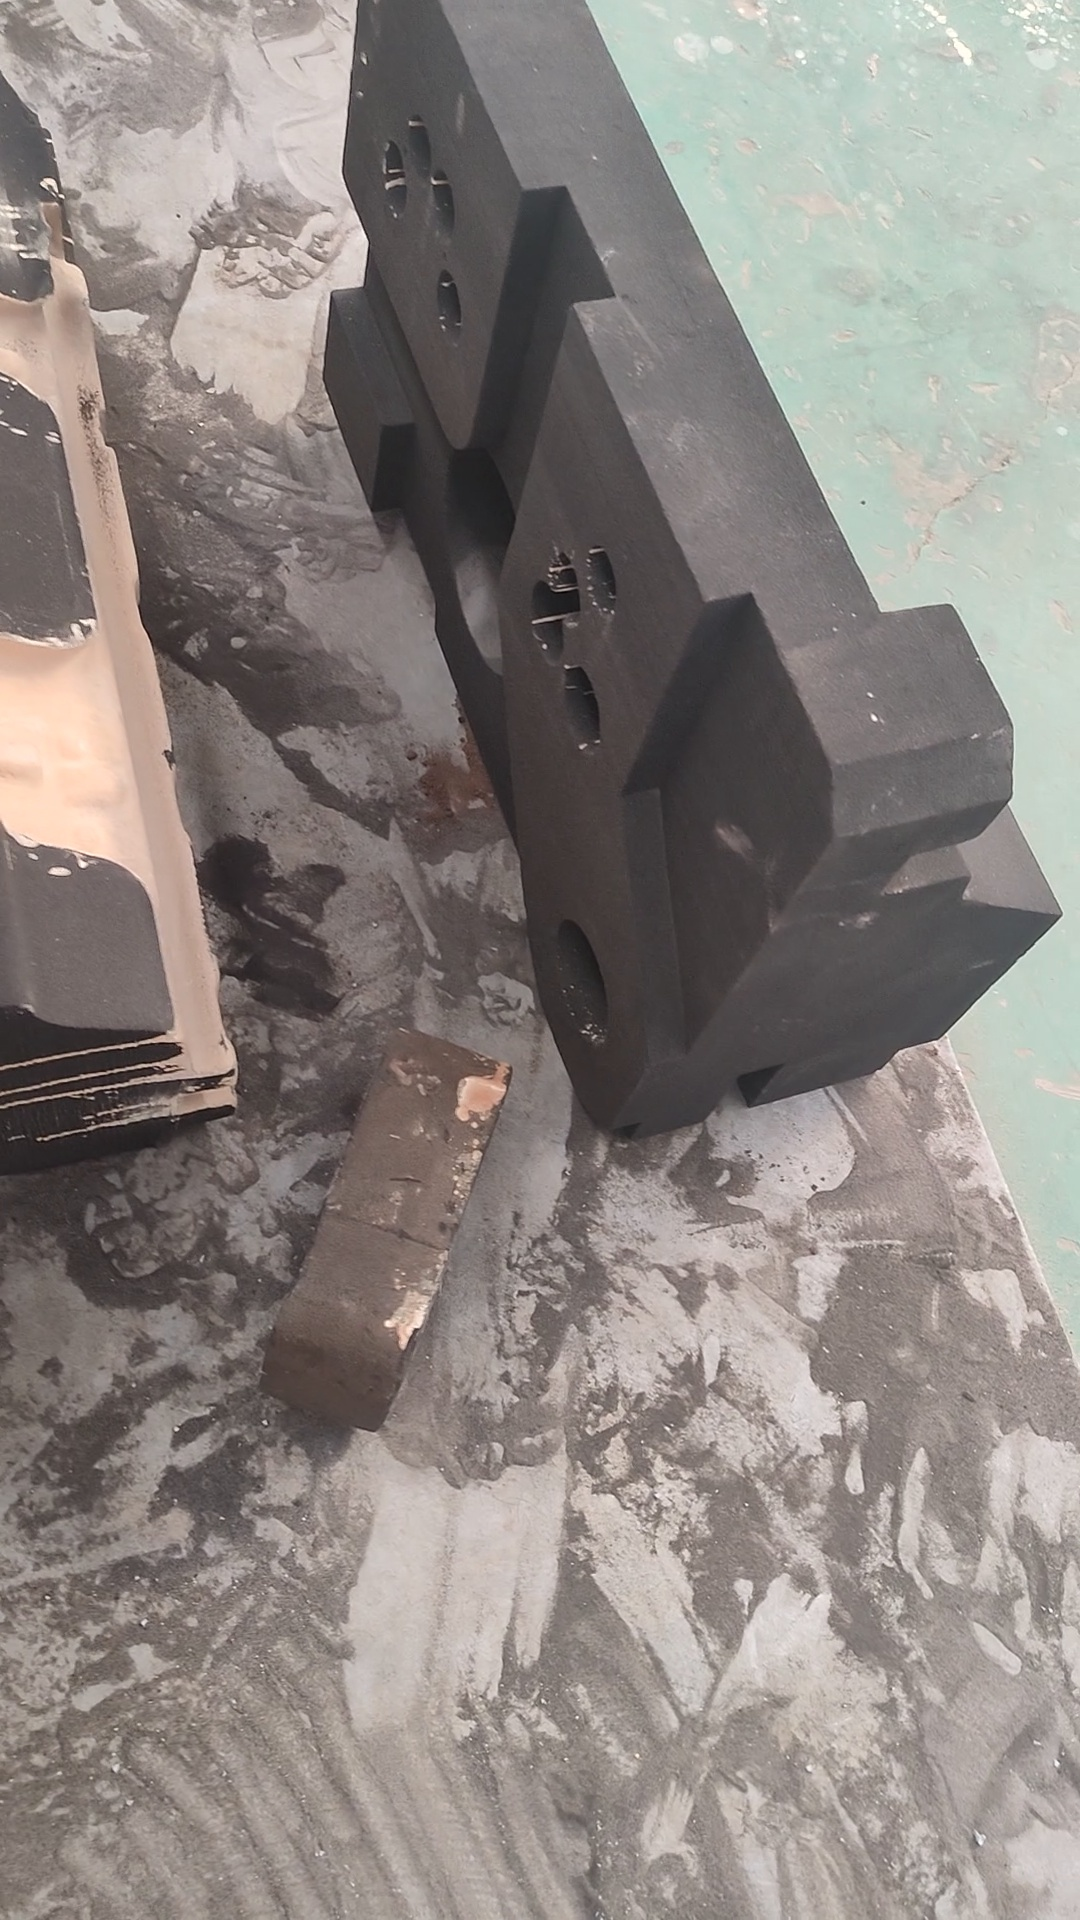pouring hole: (556, 919, 611, 1048)
